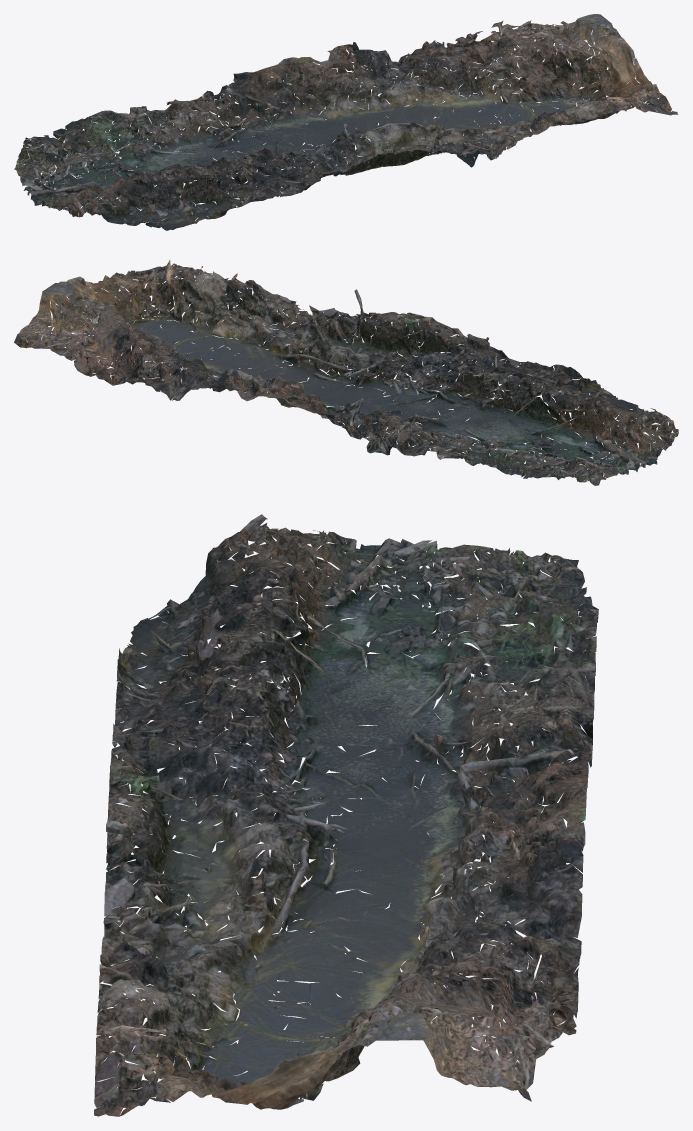
The model's file is mudpuddle.glb.
The picture shows the model from 3 angles, top to bottom: view 1: azimuth 30°, elevation 25°; view 2: azimuth 150°, elevation 25°; view 3: azimuth 270°, elevation 25°; orthographic projection. The views are drawn at different scales.
Parts seen in each view (by area): view 1: Model; view 2: Model; view 3: Model.
Boxes of the visible parts, <box> form: Model: <box>14,14,678,230</box>; Model: <box>14,260,678,485</box>; Model: <box>94,514,598,1116</box>.
Bounding box in the file's own units: 3.18 × 0.2971 × 1.19.
Materials: 3 (3 with a texture image).
